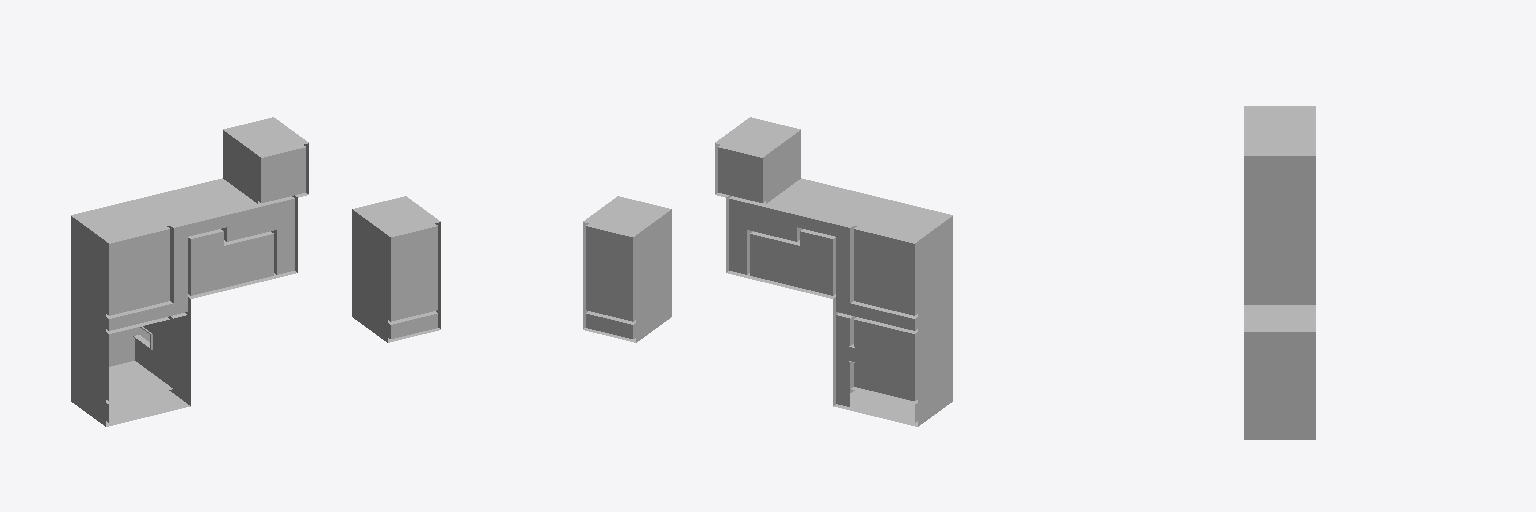
File: 2ndFloor.obj
3 views of the same model, side by side, from view 1: azimuth 30°, elevation 25°; view 2: azimuth 150°, elevation 25°; view 3: azimuth 270°, elevation 25° (orthographic).
Visible parts, largest first — view 1: 3rdFloor.001; view 2: 3rdFloor.001; view 3: 3rdFloor.001.
Part boxes in pixels (x1,y1,x2,y2): 3rdFloor.001: (71, 117, 440, 426); 3rdFloor.001: (583, 117, 952, 426); 3rdFloor.001: (1244, 106, 1315, 439).
Bounding box in the file's own units: 218 × 146 × 40.